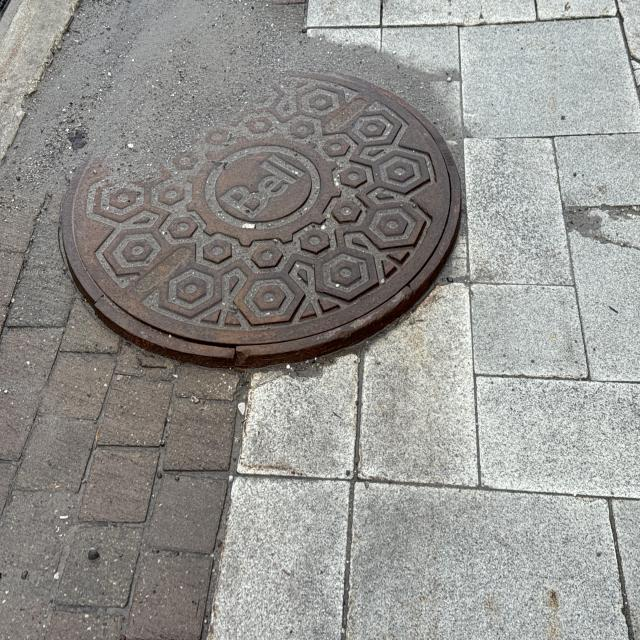Manhole: (67, 67, 462, 374)
